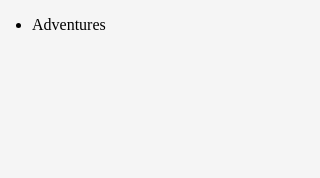
Scenario: ContextMenu › opens on right-click with the actions, runs one and closes
Step 1. Right-click the list item "Adventures" → [69, 24], box 32,16 -> 106,33
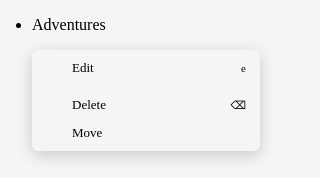
Now the menu shows "Edit", box 36,54 -> 256,82
Now the menu item "Move" is disabled, box 36,119 -> 256,147
Step 2. Click the menu item "Delete ⌫" → [146, 105], box 36,91 -> 256,119
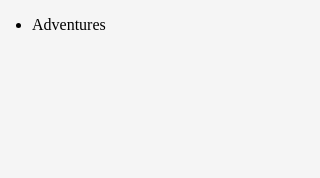
Now the menu is gone
